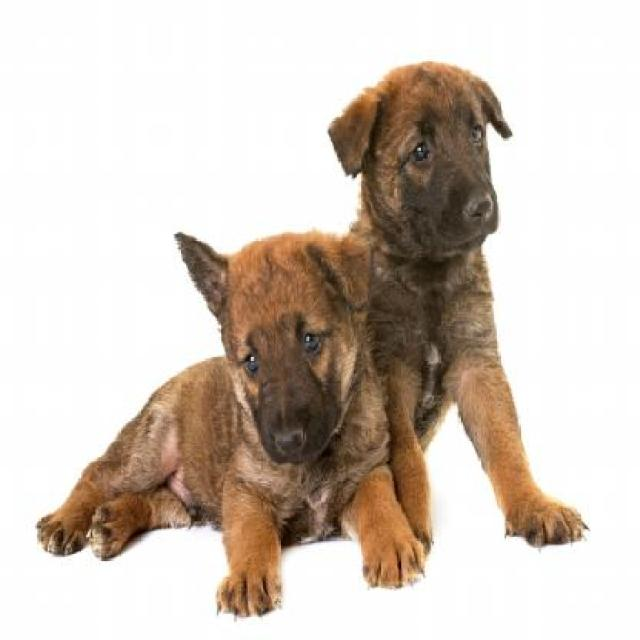animals: (48, 226, 386, 594), (369, 59, 586, 588)
